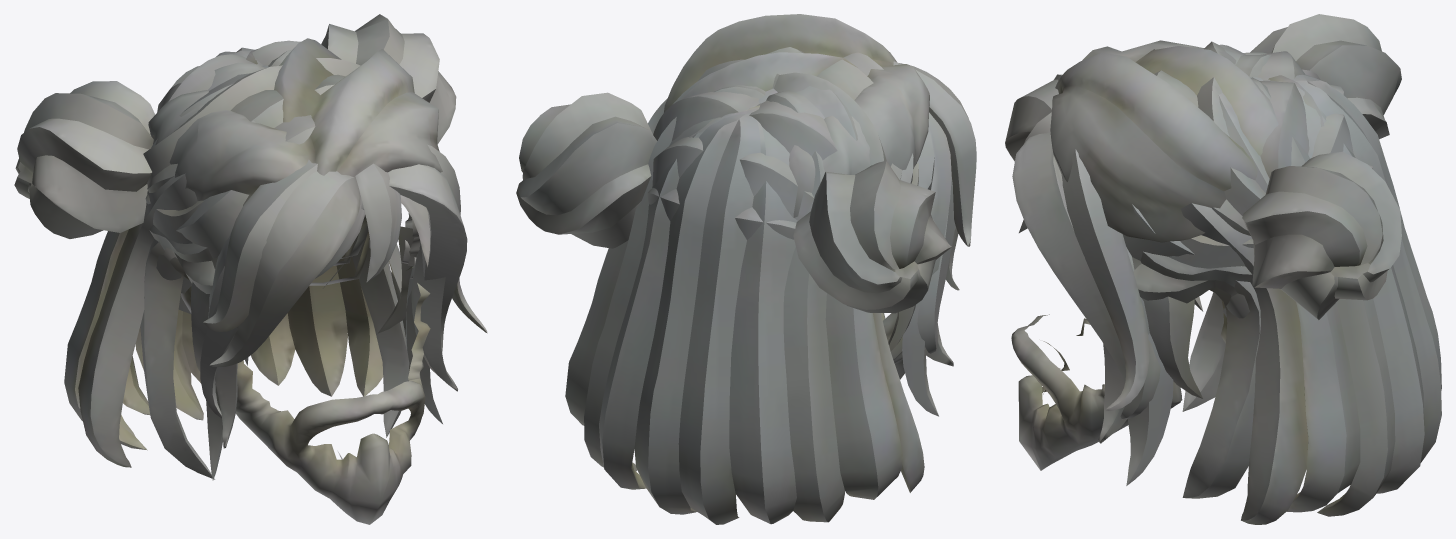
Rendered from pelos.glb.
The picture shows the model from 3 angles, left to right: view 1: azimuth 30°, elevation 25°; view 2: azimuth 150°, elevation 25°; view 3: azimuth 270°, elevation 25°; orthographic projection. The views are drawn at different scales.
Visible parts, largest first — view 1: Hair_Long, Hair_Buns, Hair_SimpleParted, Hair_Beard, Hair_Buzzed; view 2: Hair_Long, Hair_Buns, Hair_SimpleParted, Hair_Beard; view 3: Hair_Long, Hair_Buns, Hair_SimpleParted, Hair_Beard.
Boxes of the visible parts, x1,y1,x2,y2 form: Hair_Long: (64, 47, 487, 479); Hair_Buns: (14, 14, 457, 480); Hair_SimpleParted: (148, 38, 442, 265); Hair_Beard: (236, 266, 430, 524); Hair_Buzzed: (181, 200, 416, 313); Hair_Long: (565, 61, 976, 524); Hair_Buns: (516, 47, 953, 416); Hair_SimpleParted: (664, 14, 929, 217); Hair_Beard: (881, 312, 904, 379); Hair_Long: (1005, 44, 1441, 524); Hair_Buns: (1019, 14, 1401, 485); Hair_SimpleParted: (1050, 40, 1324, 242); Hair_Beard: (1011, 314, 1182, 470).
Size of the model in its own units: 0.3015 by 0.2918 by 0.2677.
2 materials, 2 textured.
